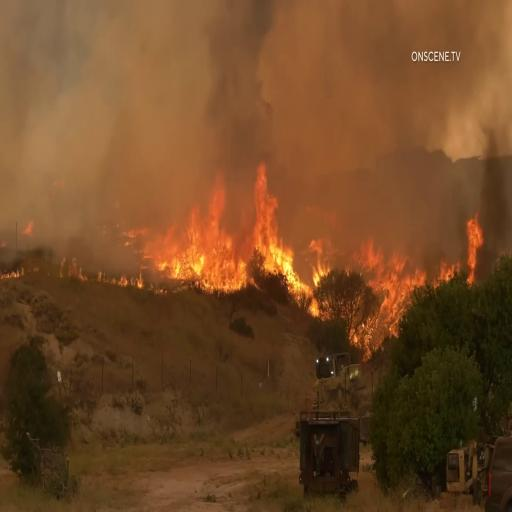fire: (147, 170, 245, 293), (352, 253, 429, 352), (276, 233, 336, 317), (246, 180, 301, 268), (437, 222, 496, 292), (114, 258, 150, 294)
smoke: (267, 94, 375, 170), (203, 5, 250, 174), (80, 58, 151, 126)
